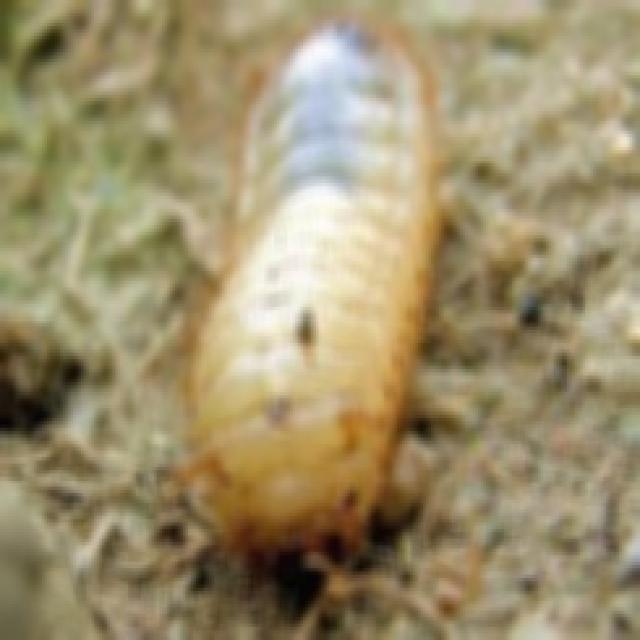grub: (196, 16, 475, 574)
